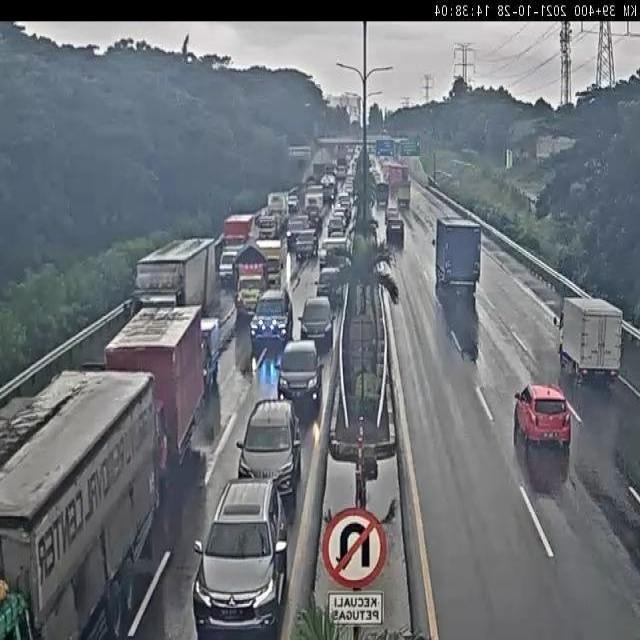Car: (193, 478, 292, 635), (236, 396, 304, 502), (512, 384, 573, 450), (275, 340, 325, 404), (249, 287, 293, 356), (298, 295, 334, 355), (318, 261, 344, 300), (295, 227, 319, 259), (286, 220, 307, 248), (326, 218, 347, 238), (386, 218, 404, 240), (330, 210, 348, 228), (384, 206, 400, 222), (289, 194, 301, 212), (341, 199, 353, 217)
Truck: (0, 366, 160, 640), (103, 302, 207, 476), (128, 237, 218, 318), (552, 291, 625, 378), (432, 217, 484, 290), (232, 238, 270, 315), (198, 318, 221, 384), (257, 239, 285, 293), (218, 244, 248, 287), (222, 214, 254, 244), (266, 190, 291, 224), (325, 237, 348, 272), (384, 161, 409, 189), (257, 213, 281, 240), (397, 179, 412, 208), (375, 182, 390, 205)
